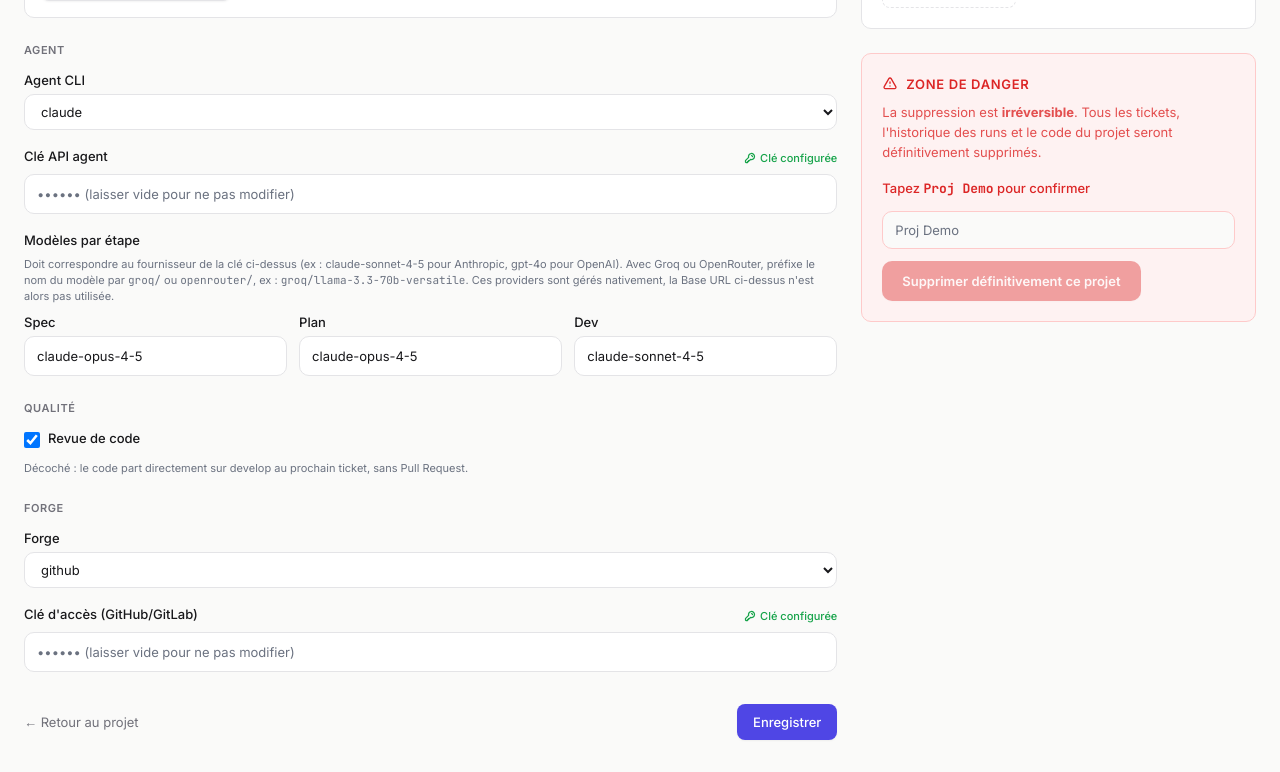
Test: ProjectSettingsPage › shows error message on API failure
The width and height of the screenshot is (1280, 772).
(page scrolled)
Click the button "Enregistrer". click: point(787, 722)
box: left=737, top=704, right=837, bottom=740
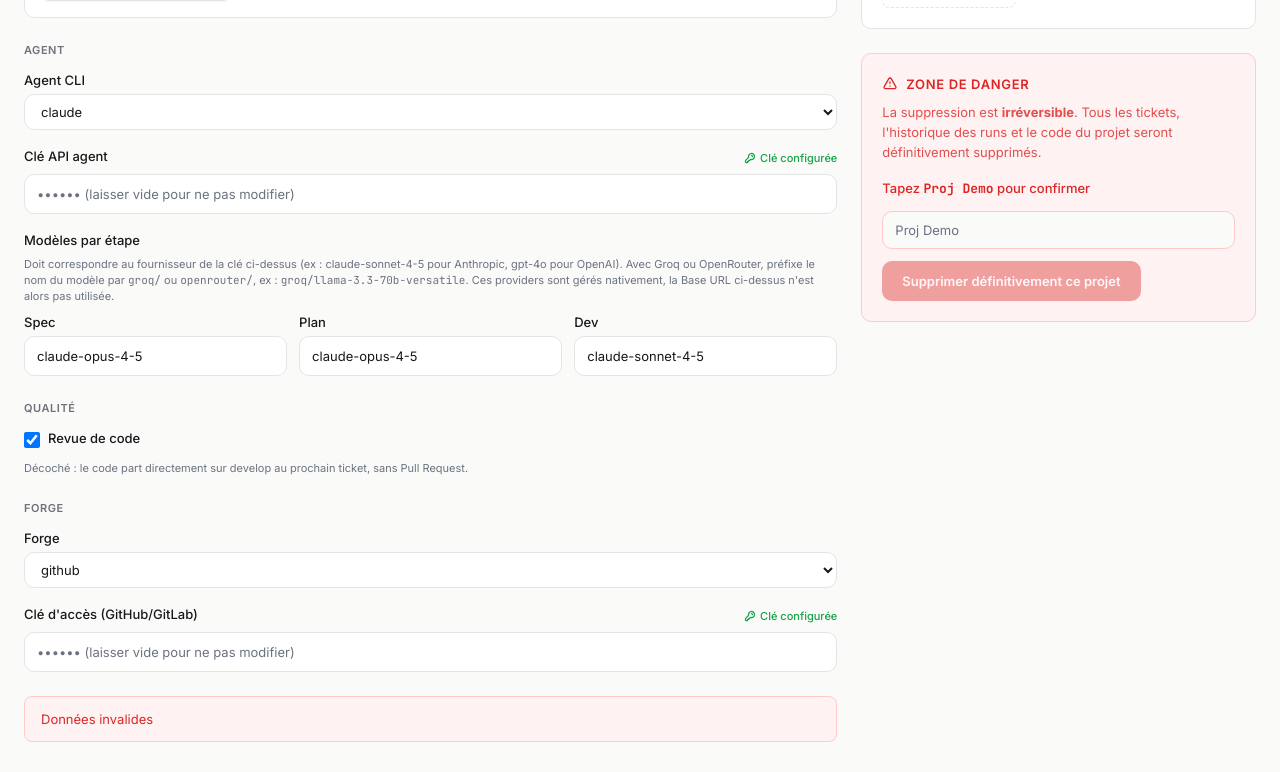
Check: the text "Données invalides" is shown, box left=24, top=696, right=837, bottom=742
